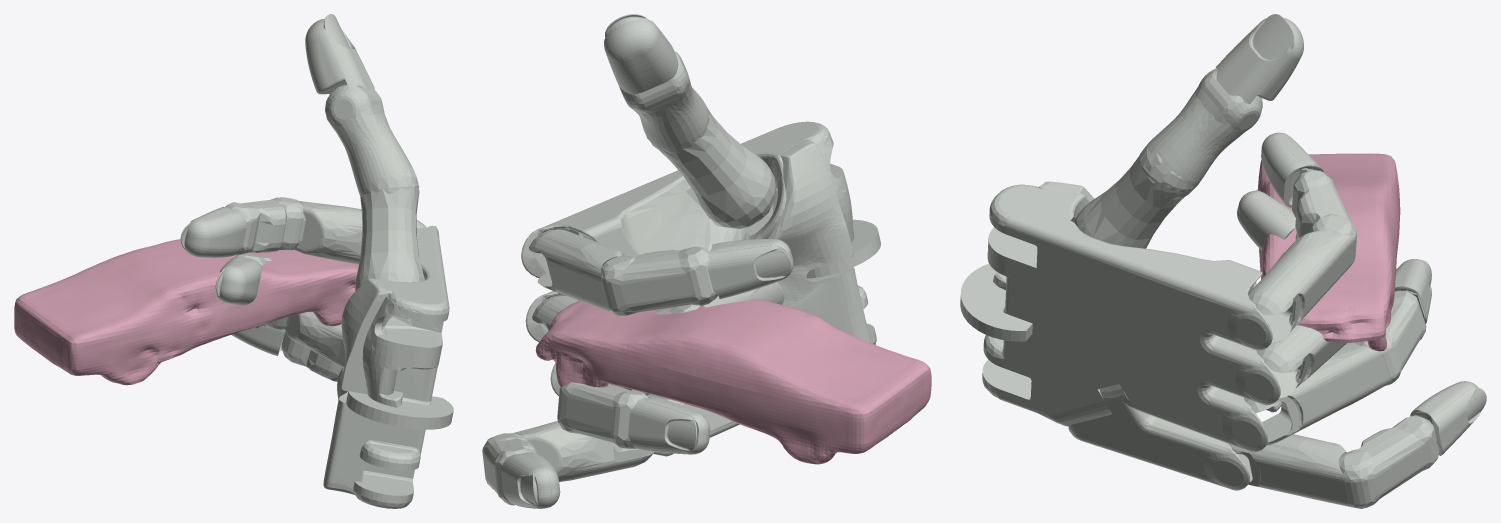
3 renders of one model, left to right at view 1: azimuth 30°, elevation 25°; view 2: azimuth 150°, elevation 25°; view 3: azimuth 270°, elevation 25°, orthographic. The views are drawn at different scales.
Parts seen in each view (by area): view 1: hand, world; view 2: hand, world; view 3: hand, world.
Part boxes in pixels (left/top/right/bottom): hand: left=180, top=14, right=453, bottom=508; world: left=14, top=239, right=358, bottom=385; hand: left=482, top=14, right=880, bottom=508; world: left=535, top=298, right=931, bottom=464; hand: left=960, top=14, right=1486, bottom=508; world: left=1257, top=153, right=1400, bottom=351.
Size of the model in its own units: 0.1547 by 0.1704 by 0.1781.
